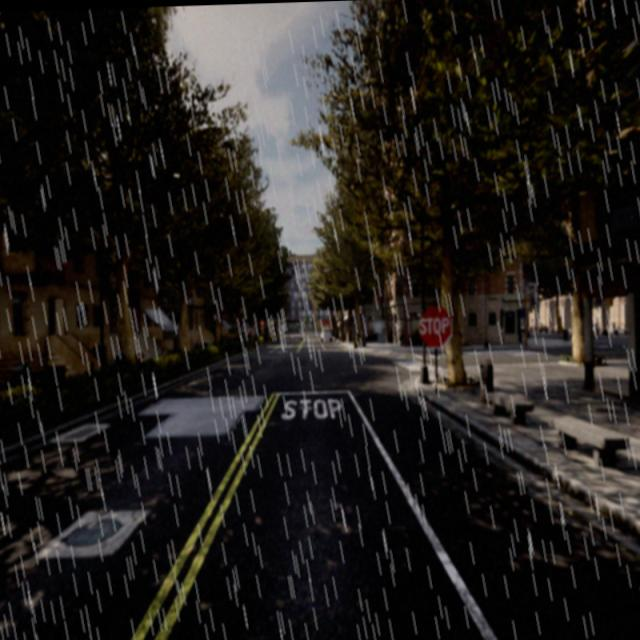stop sign: (416, 302, 454, 351)
